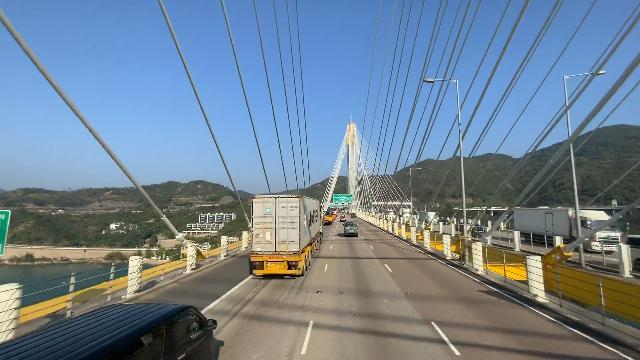car: (339, 215, 346, 223), (351, 213, 356, 218)
truck: (251, 194, 323, 277), (511, 203, 625, 255)
van: (0, 292, 250, 360), (343, 219, 361, 238), (470, 224, 485, 237)
